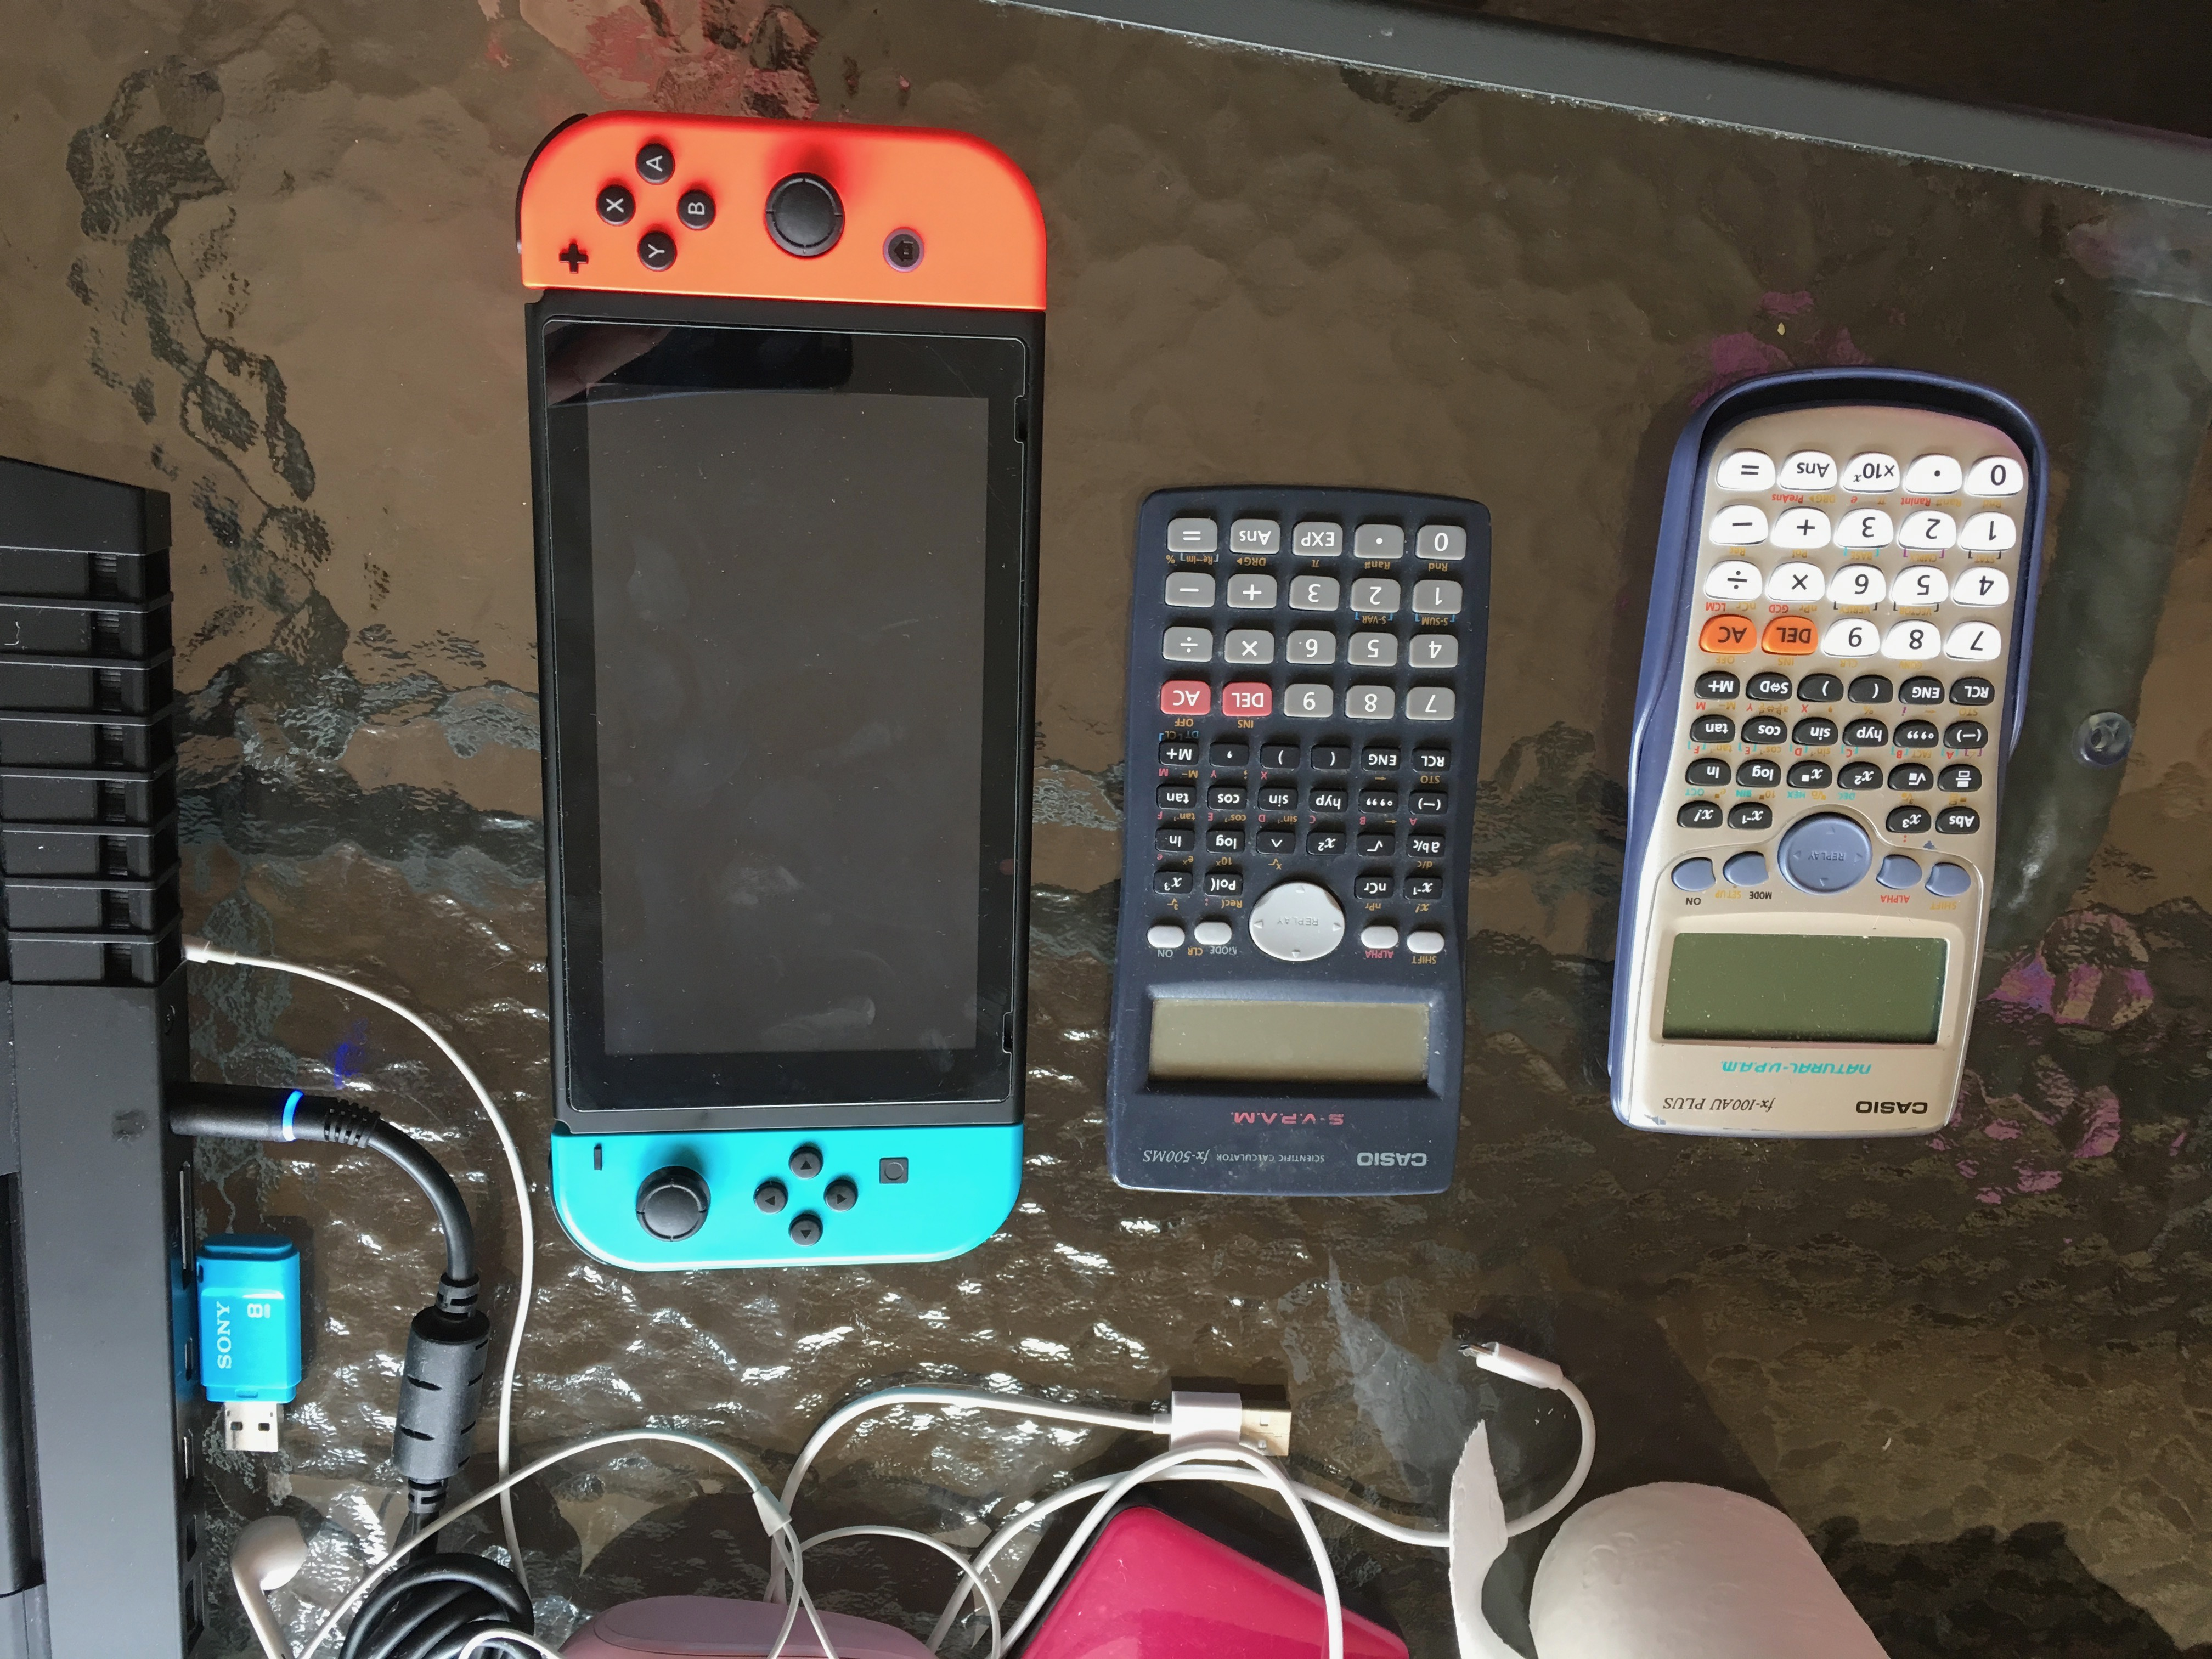Calculator: (1585, 357, 2057, 1166), (1097, 471, 1489, 1209)
NintendoSwitch: (509, 106, 1055, 1279)
